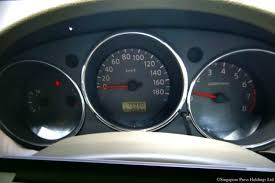Digital_Meter: (120, 100, 148, 112)
